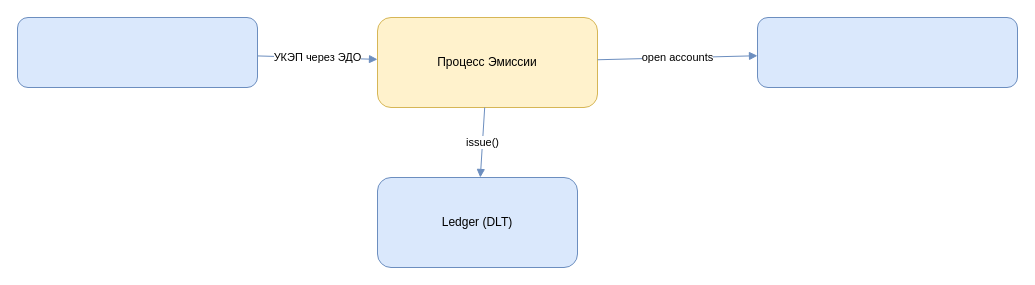
This 1035x285 diagram has some shape labels left out. Here are the shapes that lost their labels. From the top down, the centre of each, then its label:
At pixel 137 52: "Документы (решение, проспект)".
At pixel 887 52: "Номинальные/аналитические счета".
